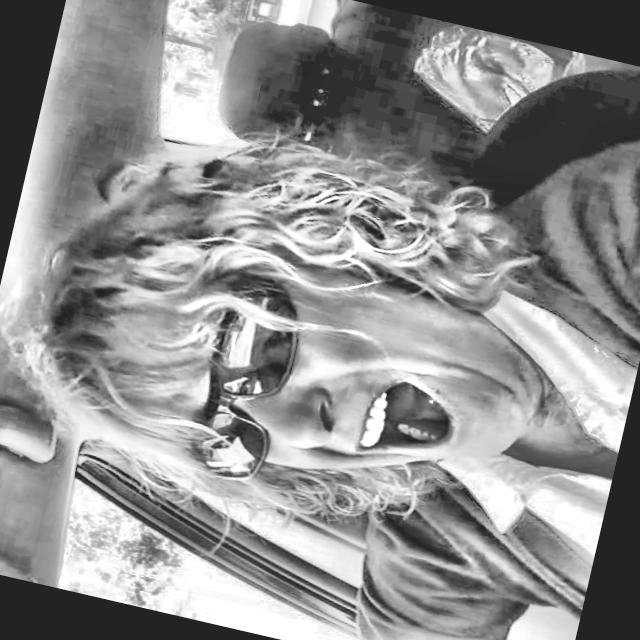open_mouth: (340, 357, 468, 477)
